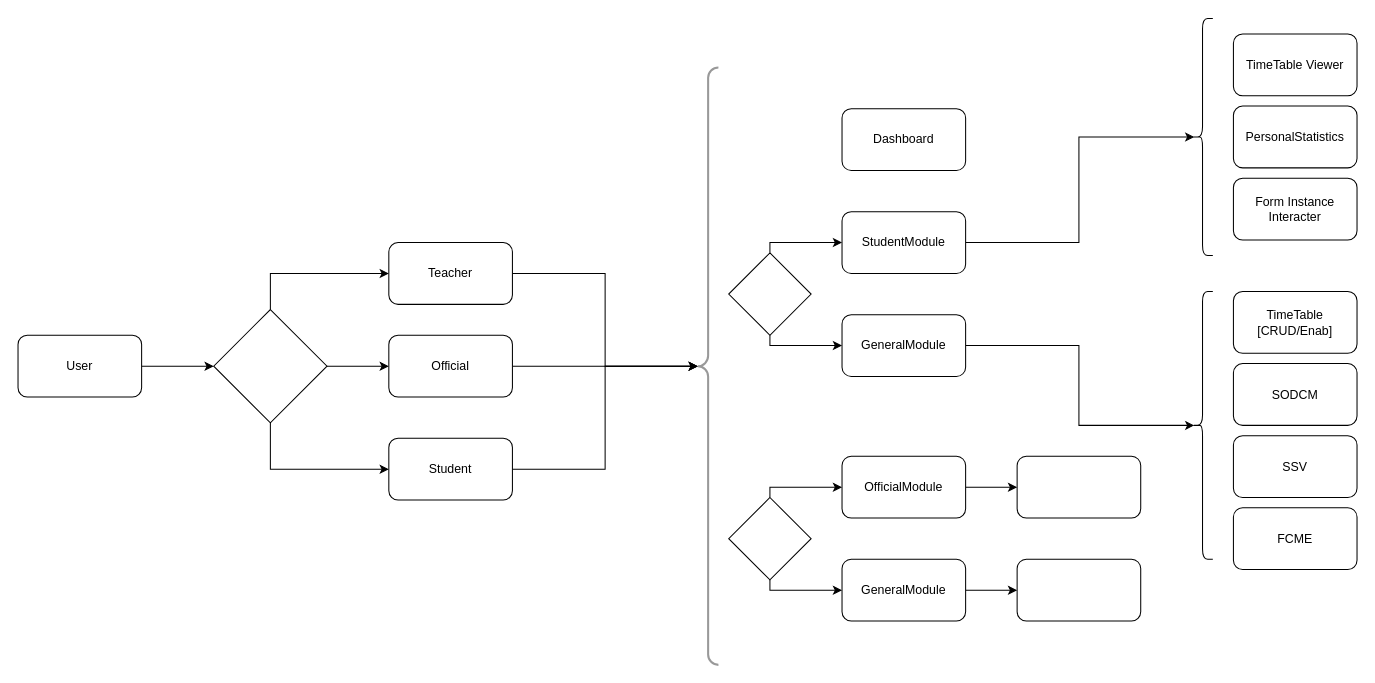
The diagram is 1375 pixels wide and 683 high, and some of its shapes have lost their labels. The shapes that lost their labels are listed below. From the top down, each one's centre as x and y in pixels, then its label:
At (x=769, y=293): "IsStudent".
At (x=270, y=365): "UserTypePipeline".
At (x=1078, y=486): "Announcement [CRUD]".
At (x=769, y=538): "IsOfficial".
At (x=1078, y=589): "Announcement".
